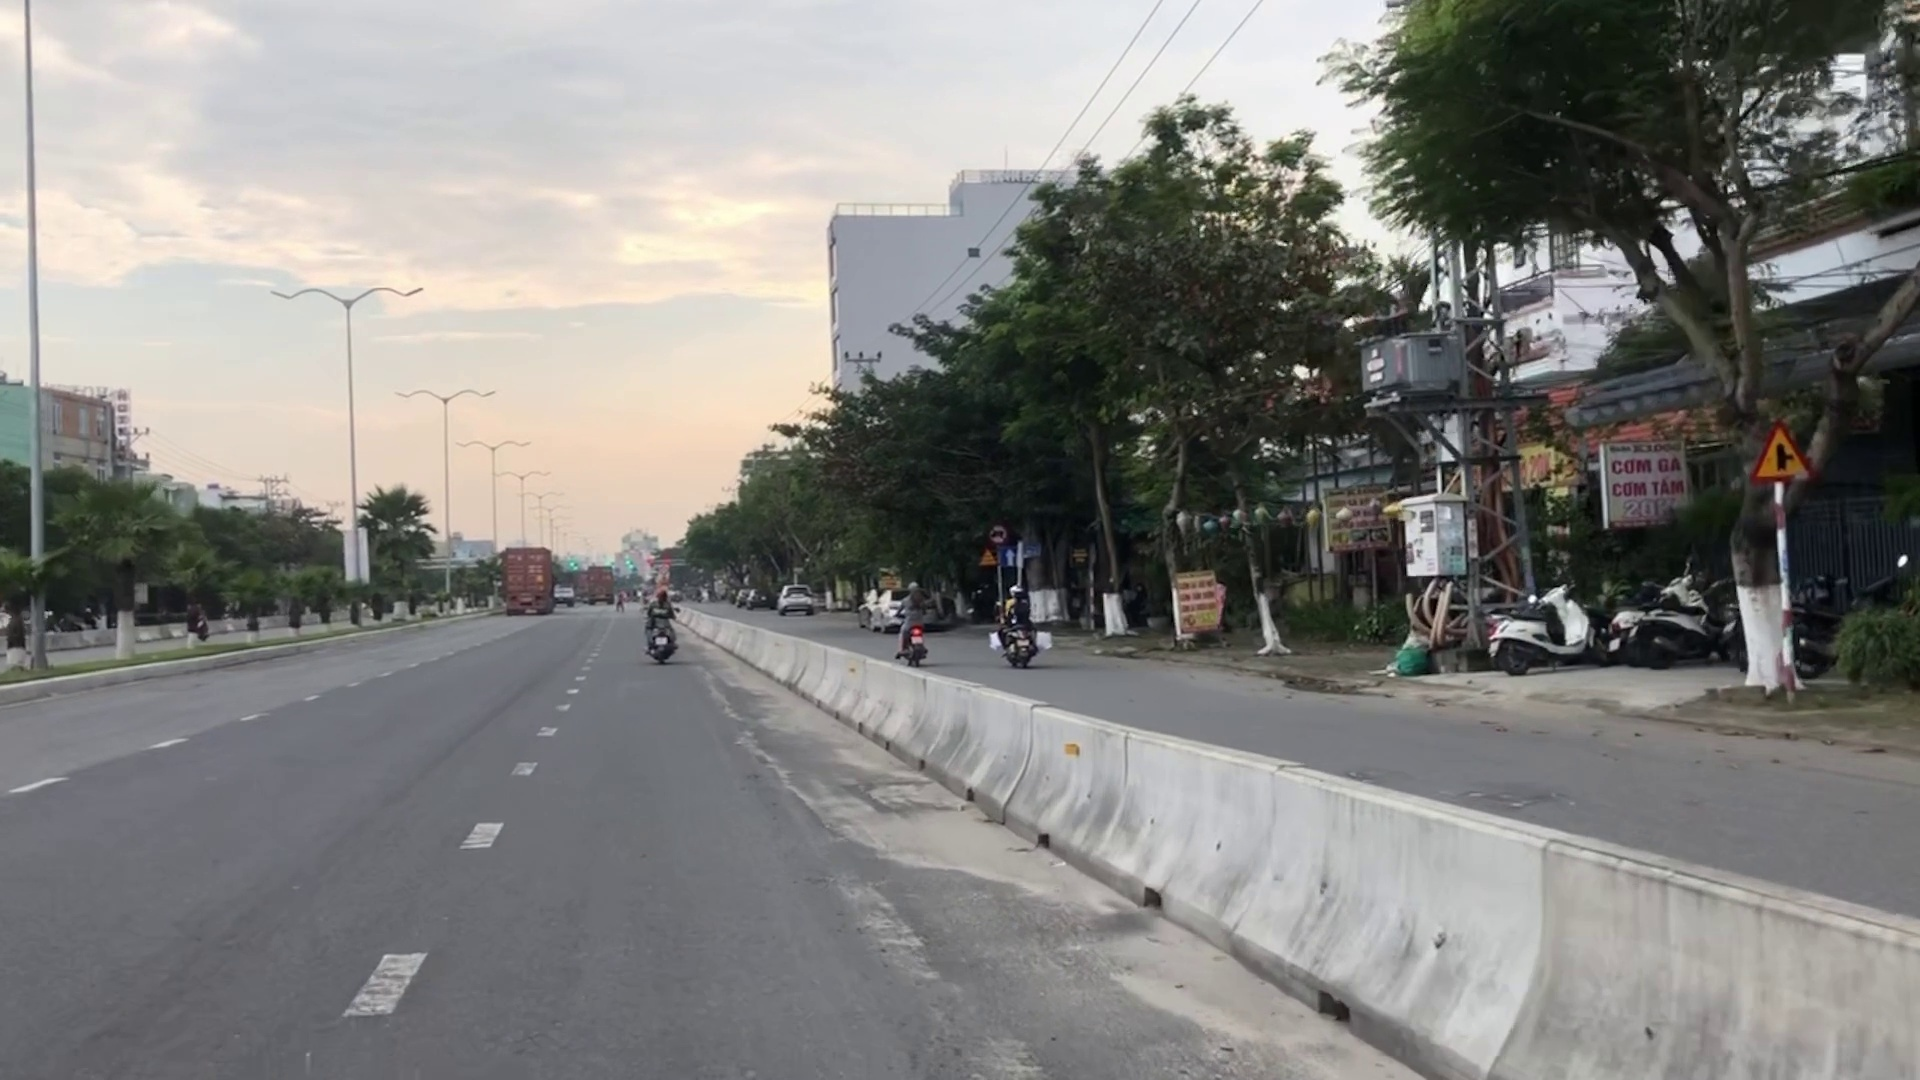Bien khac: (978, 545, 998, 564), (1000, 545, 1018, 564), (990, 524, 1006, 542)
Giao nhau voi duong khong uu tien: (1746, 419, 1818, 484)
